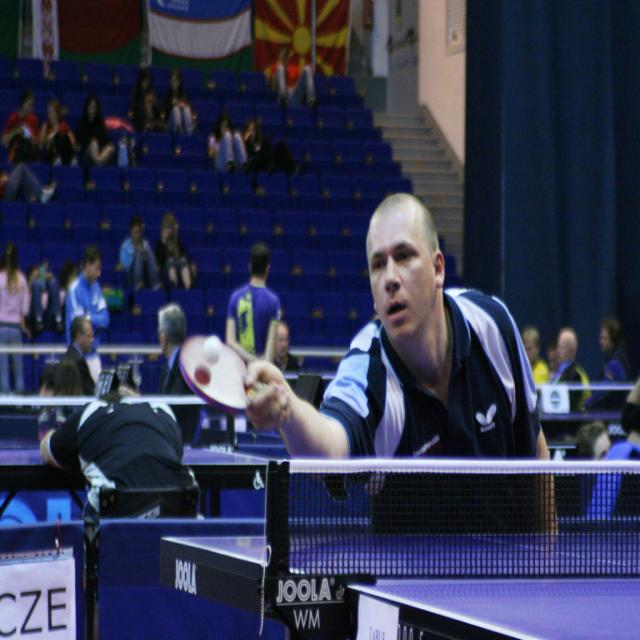Person: (0, 44, 640, 592)
